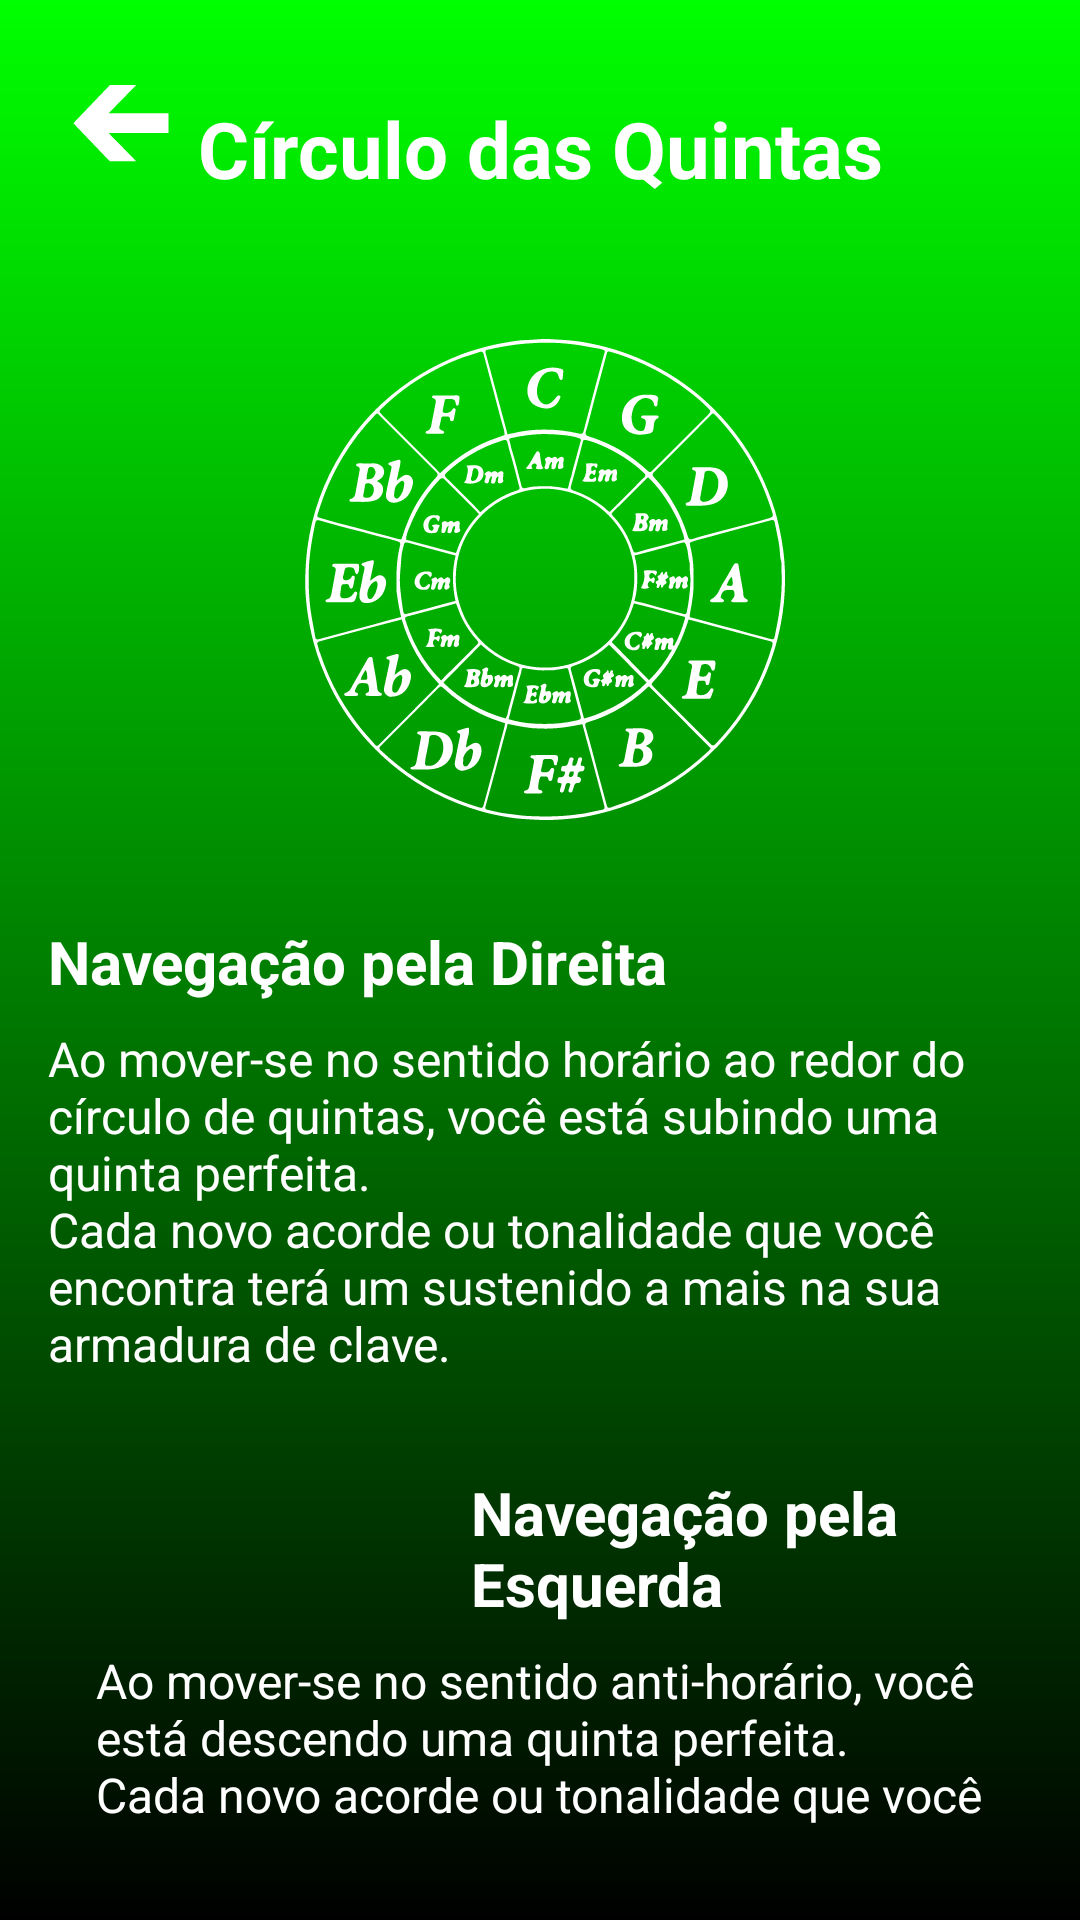

Icons on this 1080×1920 Android screen, each with the point to tap as (x=x, y=y):
back arrow: (x=123, y=105)
